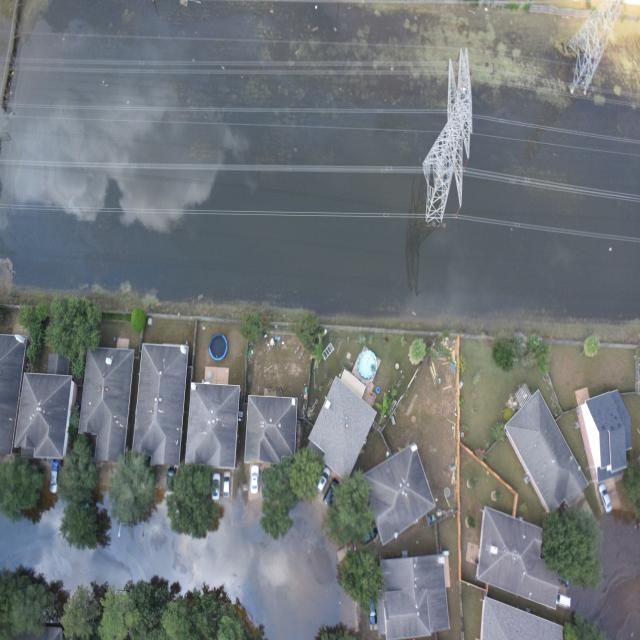fire: (0, 0, 640, 331), (0, 496, 357, 640), (568, 511, 640, 640)
